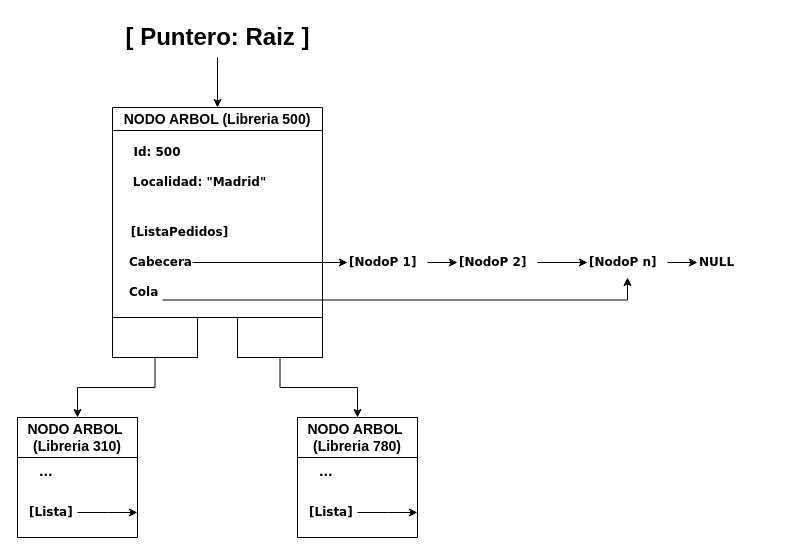
This 795x555 diagram has some shape labels left out. The shapes that lost their labels are listed below. From the top down, each one's centre as x and y in pixels, then its label:
At point 155,337: "IZQUIERDA".
At point 279,337: "DERECHA".
